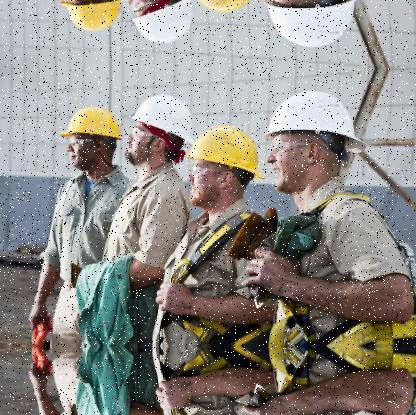helmet: (264, 80, 376, 190), (181, 118, 263, 206), (263, 0, 376, 57), (126, 85, 197, 168), (57, 97, 130, 175), (126, 0, 198, 52), (57, 0, 131, 40), (180, 0, 263, 19)
